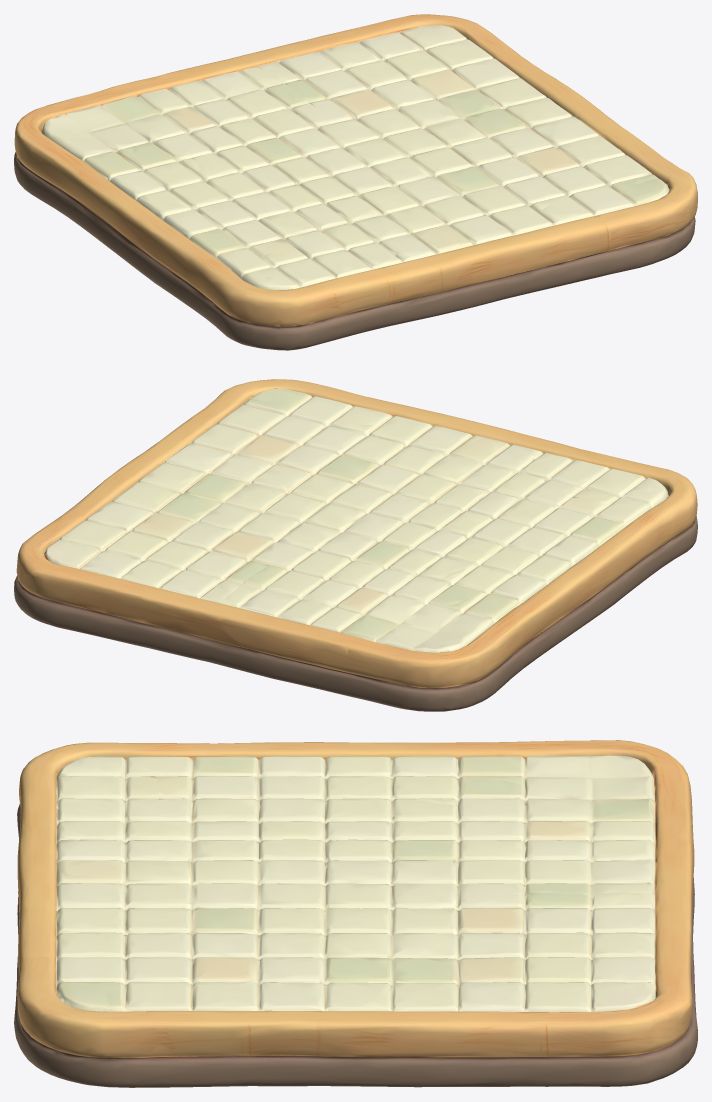
File: restaurant-floor.glb
The picture shows the model from 3 angles, top to bottom: view 1: azimuth 30°, elevation 25°; view 2: azimuth 150°, elevation 25°; view 3: azimuth 270°, elevation 25°; orthographic projection. The views are drawn at different scales.
Visible parts, largest first — view 1: tripo_node_a5101869-7a31-4864-9cc1-9110c78c14d0; view 2: tripo_node_a5101869-7a31-4864-9cc1-9110c78c14d0; view 3: tripo_node_a5101869-7a31-4864-9cc1-9110c78c14d0.
Part boxes in pixels (box(x1,y1,x2,y2)): tripo_node_a5101869-7a31-4864-9cc1-9110c78c14d0: box(14, 14, 697, 350); tripo_node_a5101869-7a31-4864-9cc1-9110c78c14d0: box(14, 379, 697, 711); tripo_node_a5101869-7a31-4864-9cc1-9110c78c14d0: box(14, 740, 697, 1087).
Bounding box in the file's own units: 0.998 × 0.1088 × 1.
Materials: 1 (1 with a texture image).
